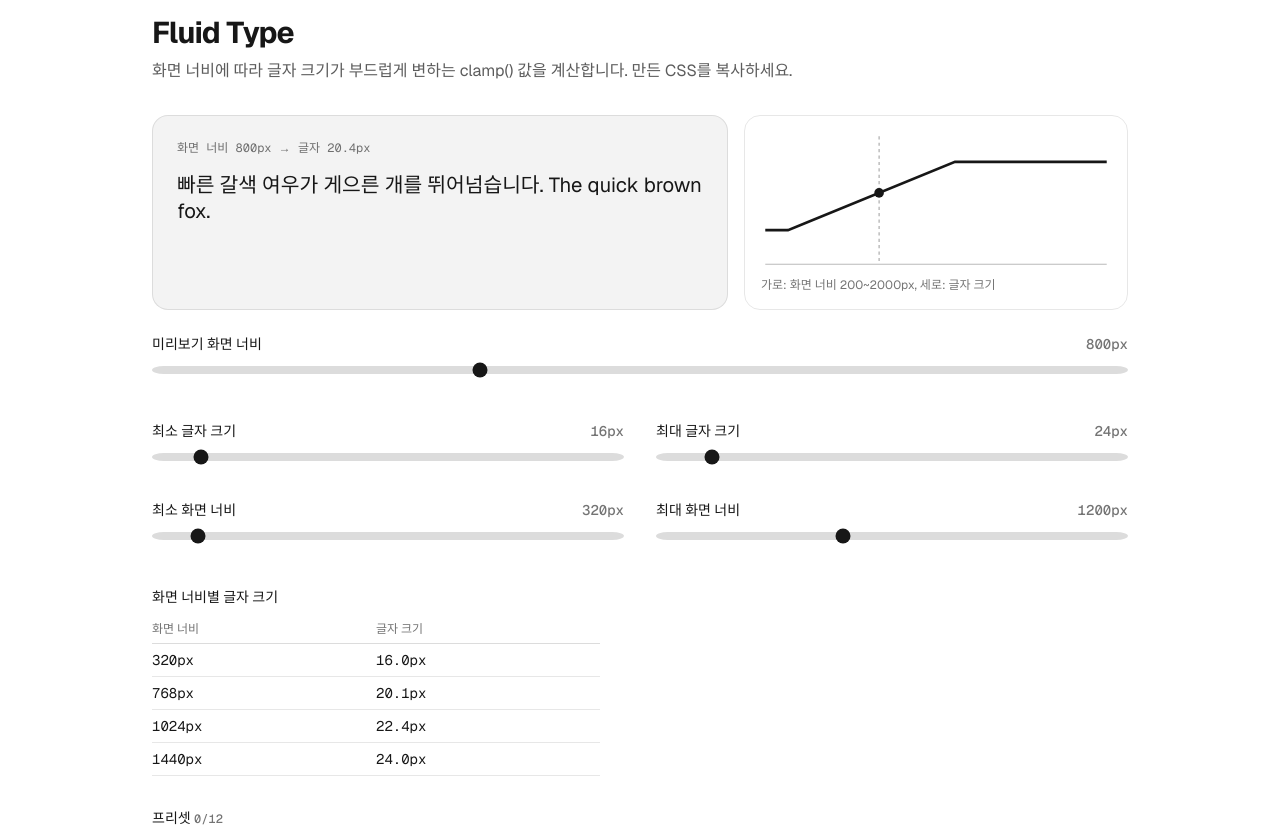
Test: FluidTypePlayground › 최소 크기를 최대 크기보다 키우면 최대 크기가 따라 올라간다
The width and height of the screenshot is (1280, 836).
Set the slider labelled "최소 글자 크기 16px" to "30": coordinates (274, 457) x1=152 y1=445 x2=624 y2=469
(page scrolled)
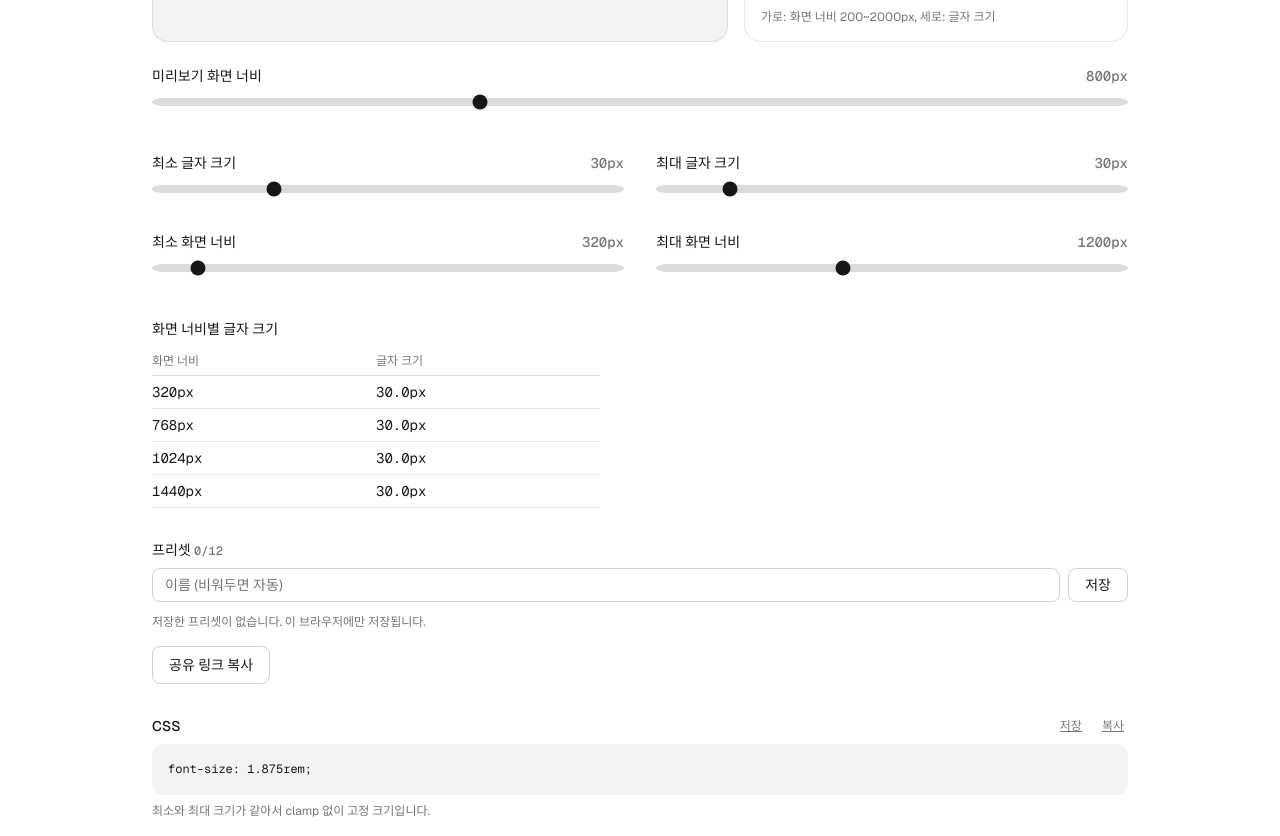
Expected: the text "font-size: 1.875rem;" is shown, x1=152 y1=744 x2=1128 y2=795
